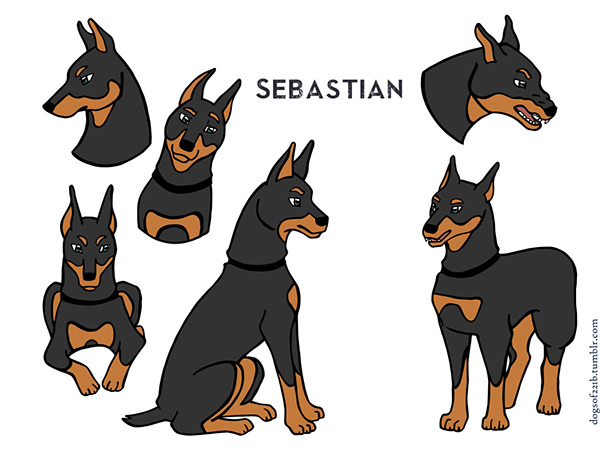dog: (405, 157, 600, 450), (237, 136, 352, 450), (374, 19, 592, 152), (41, 179, 150, 402), (41, 14, 162, 186), (162, 76, 247, 243)
